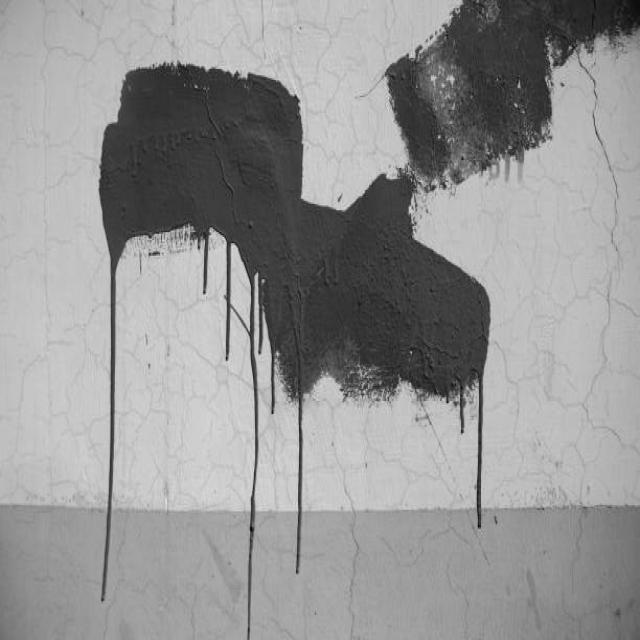paint drips: (282, 250, 345, 575), (239, 248, 280, 640), (99, 234, 128, 624), (186, 213, 240, 391), (441, 358, 491, 548)
